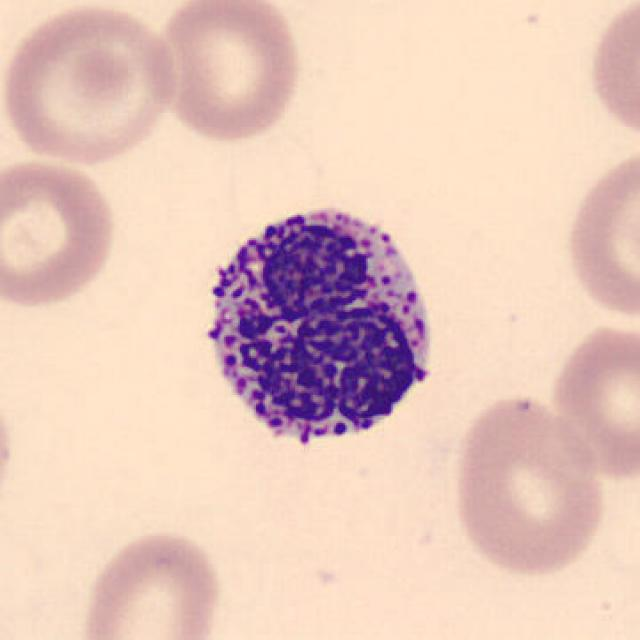Basophil: (185, 187, 450, 476)
RBC: (446, 391, 612, 582), (0, 0, 181, 169), (145, 0, 307, 146), (0, 155, 123, 312), (76, 525, 226, 640), (546, 317, 638, 485), (558, 139, 638, 326), (583, 0, 640, 150), (0, 377, 18, 524)
